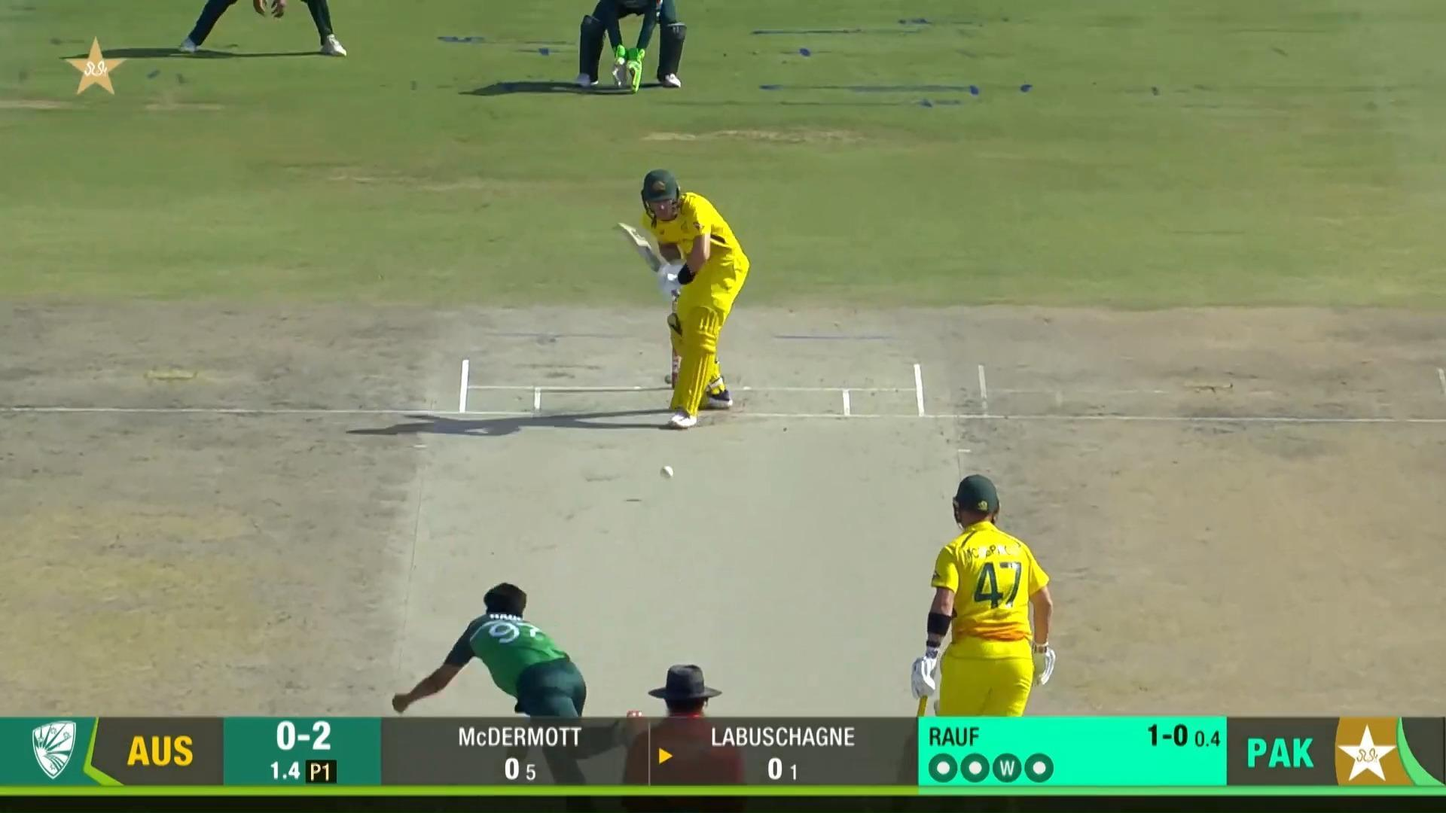BM 1: (618, 169, 750, 429)
BO: (392, 582, 644, 718)
